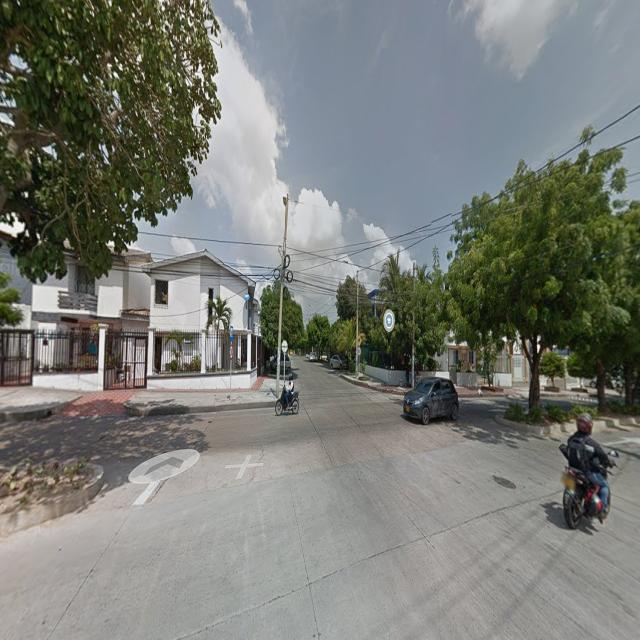Fachada: (31, 248, 151, 391), (143, 250, 261, 389)
Poste: (276, 192, 289, 399), (410, 309, 415, 388), (356, 271, 359, 347), (412, 261, 415, 296), (357, 353, 359, 379)
